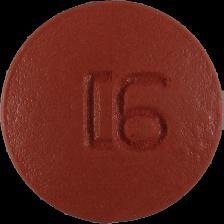65862-619: (0, 0, 224, 224)
